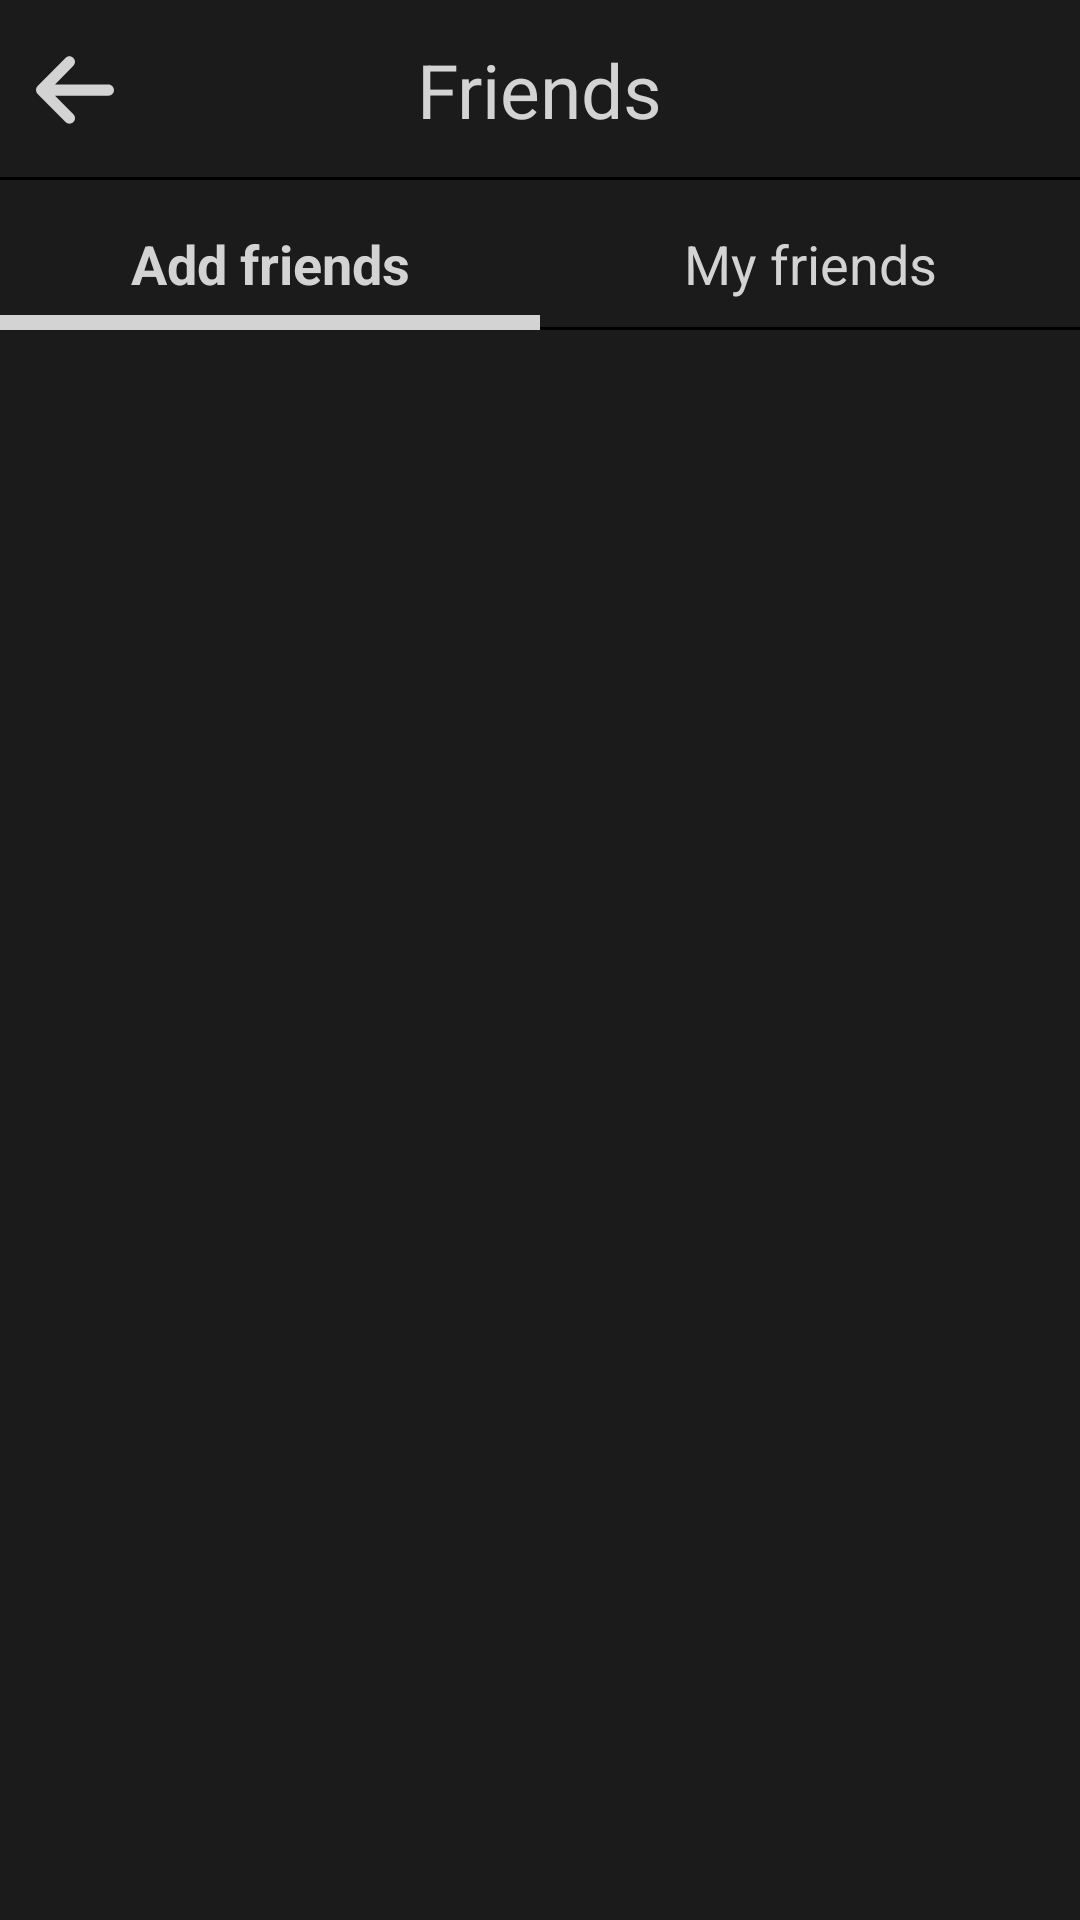

Icon click points for this 1080px x 1920px phone screenshot, format point (x, y):
left arrow button: point (75, 90)
